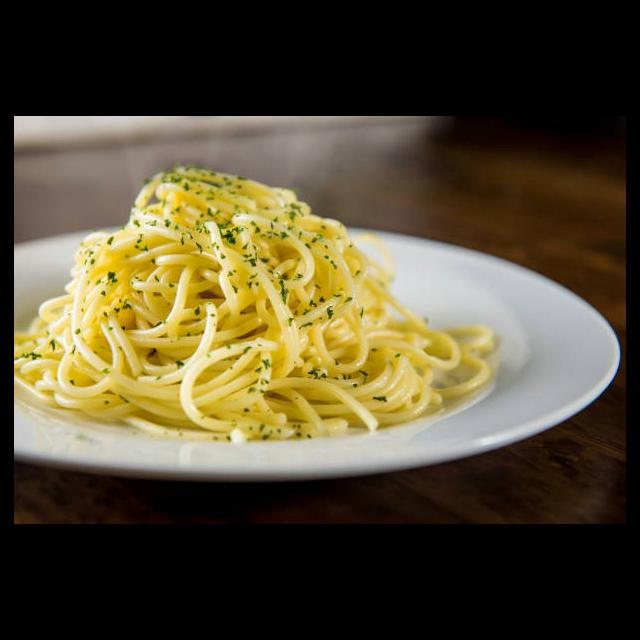noodles: (14, 164, 497, 443)
